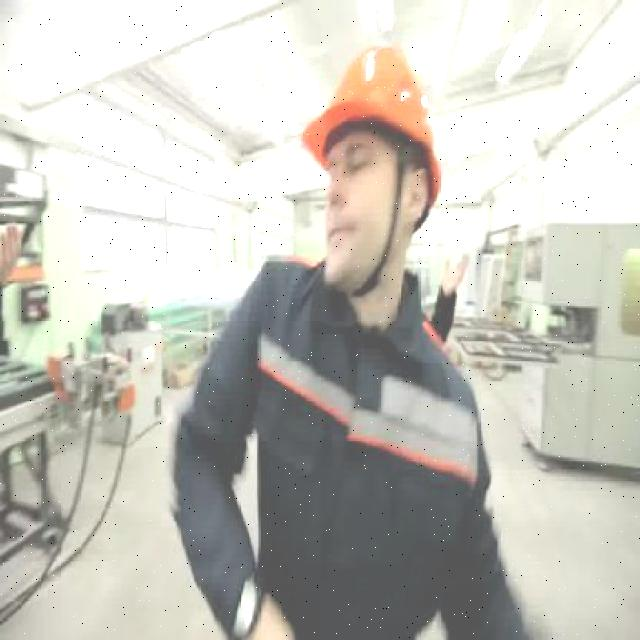Helmet: (298, 39, 444, 207)
Mask: (169, 238, 546, 640)
